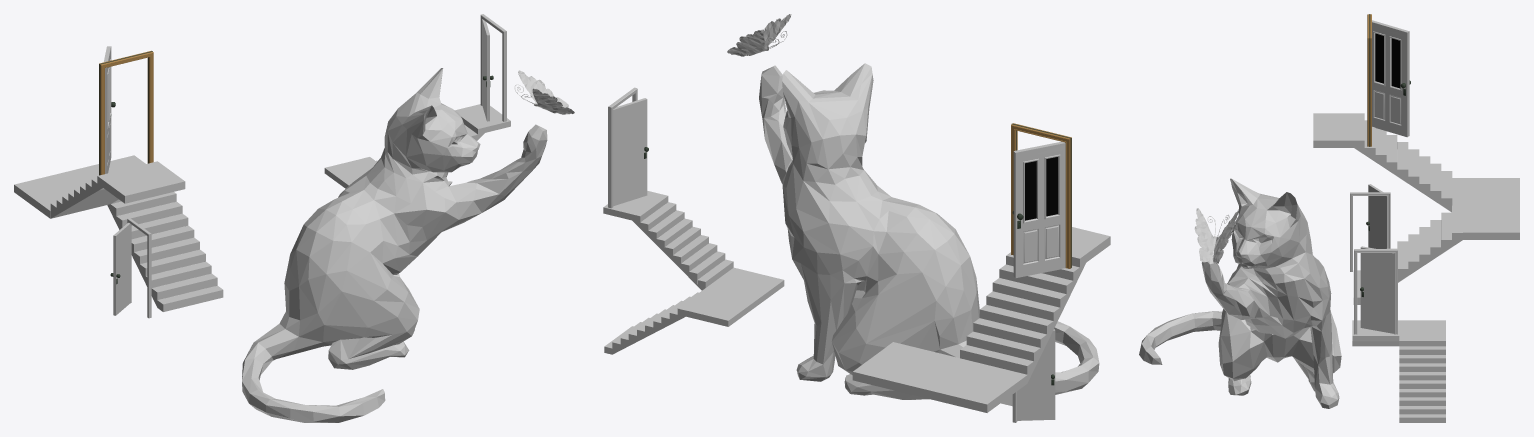
The model's file is Kloset Main stage_.fbx.
3 views of the same model, side by side, from view 1: azimuth 30°, elevation 25°; view 2: azimuth 150°, elevation 25°; view 3: azimuth 270°, elevation 25° (orthographic). The views are drawn at different scales.
Parts seen in each view (by area): view 1: CAT, Cloner, Cloner_1, Cube_2, FRAME_4, door_2, Cloner_2, Cube_1, FRAME, Door06, door, BUTTERFLY_wing_01 (+2 smaller); view 2: CAT, Cloner_1, Cube_2, Door06, Cloner_2, Cube_1, door, door_2, FRAME_4, Cloner_3, Box04, FRAME (+2 smaller); view 3: CAT, Cloner_1, Cube_2, Cloner_3, Door06, door, Cloner, Cube_1, door_2, Box04, Cloner_2, FRAME (+4 smaller).
Boxes of the visible parts, <box> form: CAT: <box>242,68,547,422</box>; Cloner: <box>107,192,223,311</box>; Cloner_1: <box>50,161,185,218</box>; Cube_2: <box>14,155,145,218</box>; FRAME_4: <box>99,50,153,175</box>; door_2: <box>113,223,131,315</box>; Cloner_2: <box>455,104,510,140</box>; Cube_1: <box>324,157,376,188</box>; FRAME: <box>480,14,506,121</box>; Door06: <box>104,46,111,173</box>; door: <box>482,19,489,121</box>; BUTTERFLY_wing_01: <box>514,70,568,113</box>; CAT: <box>759,63,1099,399</box>; Cloner_1: <box>960,227,1110,382</box>; Cube_2: <box>852,342,1027,412</box>; Door06: <box>1013,141,1065,278</box>; Cloner_2: <box>603,191,733,290</box>; Cube_1: <box>678,267,784,326</box>; door: <box>613,98,647,205</box>; door_2: <box>1017,329,1055,420</box>; FRAME_4: <box>1011,123,1071,268</box>; Cloner_3: <box>604,292,698,354</box>; Box04: <box>1025,157,1057,220</box>; FRAME: <box>608,87,637,208</box>; CAT: <box>1139,178,1341,408</box>; Cloner_1: <box>1313,113,1452,212</box>; Cube_2: <box>1452,178,1519,239</box>; Cloner_3: <box>1399,346,1445,422</box>; Door06: <box>1372,20,1409,137</box>; door: <box>1360,246,1394,333</box>; Cloner: <box>1353,212,1462,304</box>; Cube_1: <box>1352,320,1445,346</box>; door_2: <box>1368,184,1387,248</box>; Box04: <box>1375,33,1400,88</box>; Cloner_2: <box>1352,321,1399,346</box>; FRAME: <box>1354,249,1397,334</box>.
Size of the model in its own units: 796 by 565 by 690.
